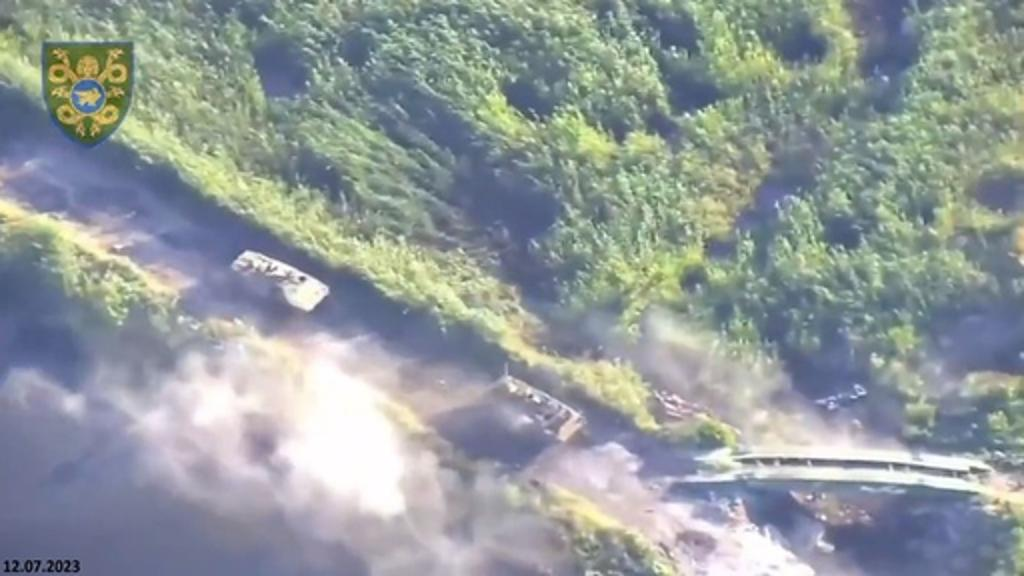APC-IFV: (220, 242, 330, 322), (478, 366, 584, 448)
